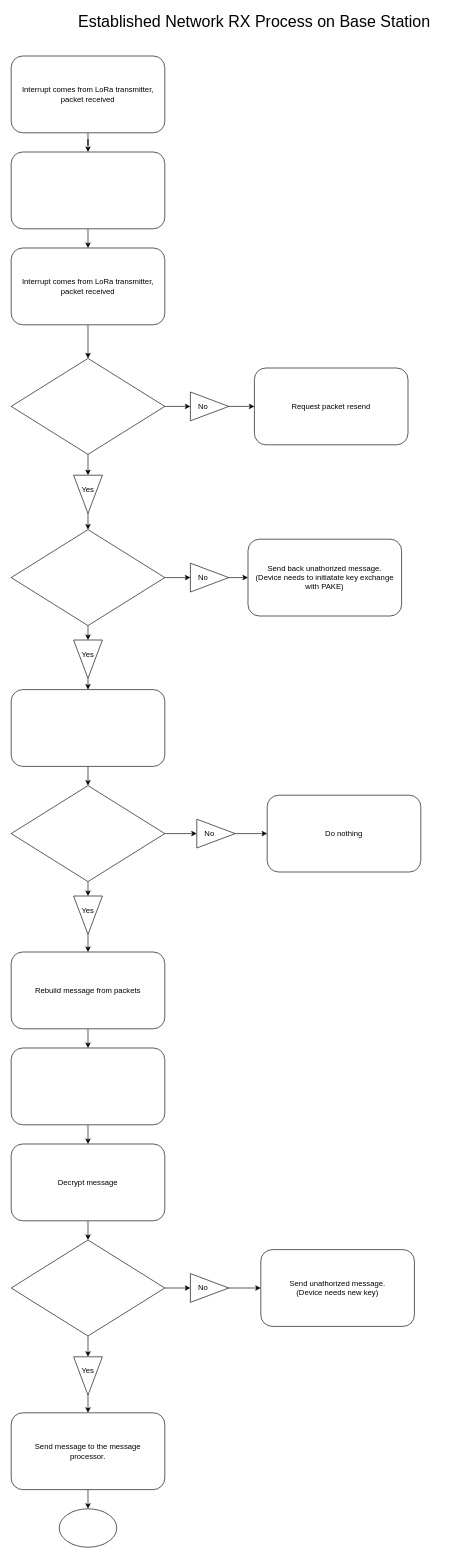
Image size: 464x1558. Some labels were removed from this diagram. The box of each missing label's shape, as (x1, y1, x2, y2) in pixels:
end: (59, 1508, 117, 1547)
Extract auth tag from message (last 16 bytes): (11, 1047, 165, 1125)
Is device with address in ARP?: (11, 529, 165, 626)
Is message auth tag and device auth tag are the same?: (11, 1239, 165, 1336)
Is packet and header crc correct?: (11, 358, 165, 454)
Last packet received?: (11, 785, 165, 882)
Parse packet then, put pakcet into device_ctx rx_network_buff buffer.: (11, 689, 165, 766)
Poll data from transmitter: (11, 151, 165, 229)
